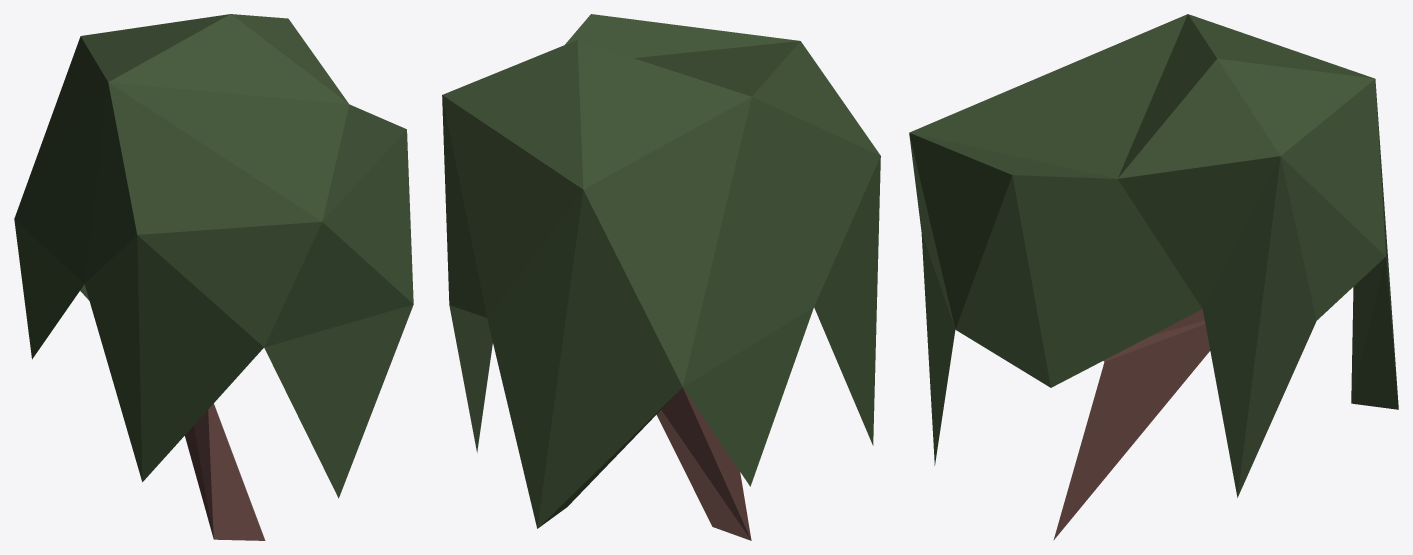
The model's file is Willow_4.lod3.glb.
3 views of the same model, side by side, from view 1: azimuth 30°, elevation 25°; view 2: azimuth 150°, elevation 25°; view 3: azimuth 270°, elevation 25° (orthographic). The views are drawn at different scales.
Parts seen in each view (by area): view 1: Willow_4; view 2: Willow_4; view 3: Willow_4.
Part boxes in pixels (x1,y1,x2,y2): Willow_4: (14,14,413,540); Willow_4: (442,14,880,540); Willow_4: (909,14,1398,540).
Bounding box in the file's own units: 2.02 × 3.39 × 2.99.
